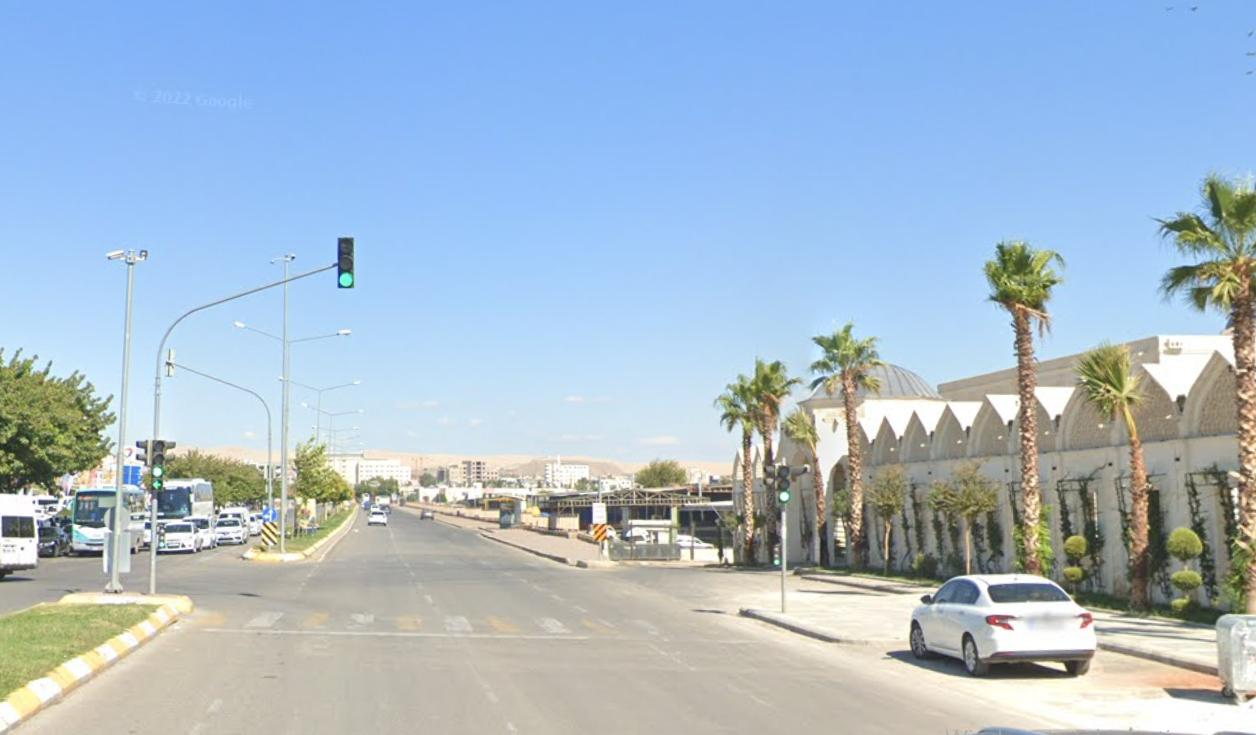greenlight: (337, 234, 355, 288), (149, 442, 164, 492), (775, 463, 791, 508)
